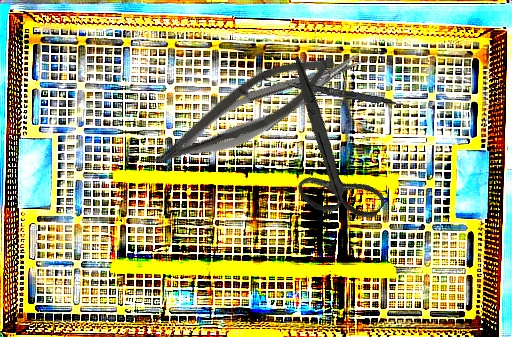Iris Scissors: (230, 55, 424, 241)
Micro Scissor: (142, 34, 346, 191)
Needle Holder: (165, 43, 373, 172)
Spatula Surgical: (260, 76, 413, 109)
